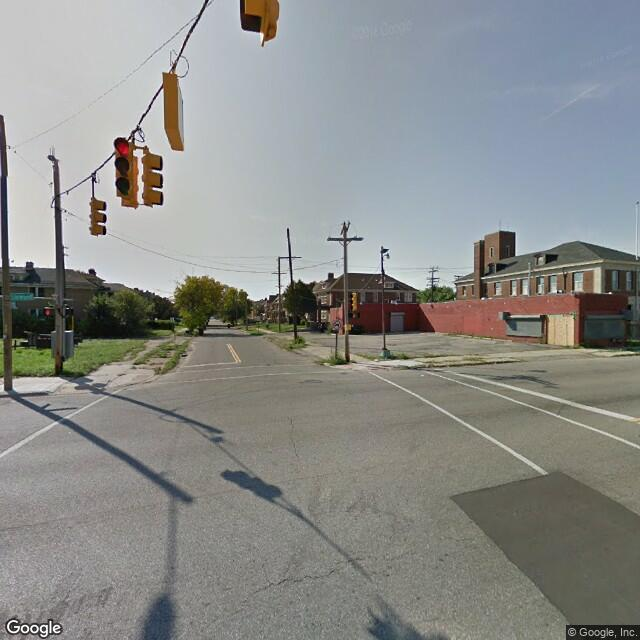litter: (373, 357, 376, 361)
